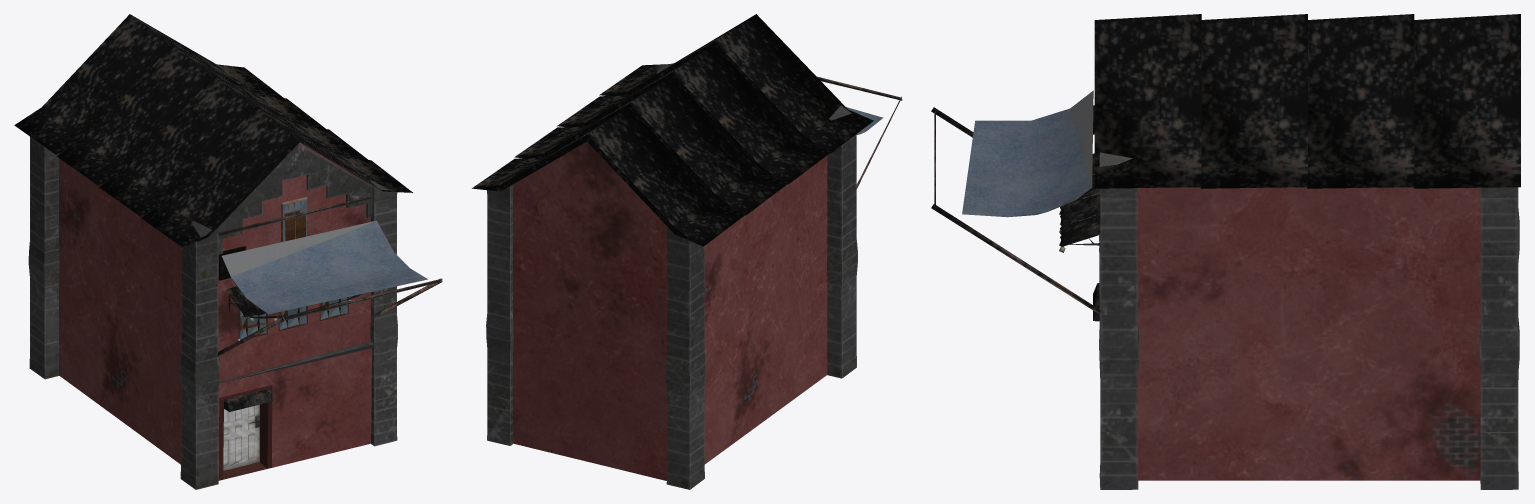
The model's file is brick_narrow.glb.
3 views of the same model, side by side, from view 1: azimuth 30°, elevation 25°; view 2: azimuth 150°, elevation 25°; view 3: azimuth 270°, elevation 25° (orthographic). The views are drawn at different scales.
Visible parts, largest first — view 1: brick_narrow_lo; view 2: brick_narrow_lo; view 3: brick_narrow_lo.
Boxes of the visible parts, x1,y1,x2,y2 form: brick_narrow_lo: [14, 14, 442, 489]; brick_narrow_lo: [472, 14, 902, 489]; brick_narrow_lo: [931, 14, 1520, 489].
Size of the model in its own units: 7.96 by 10.84 by 14.
Materials: 1 (1 with a texture image).
